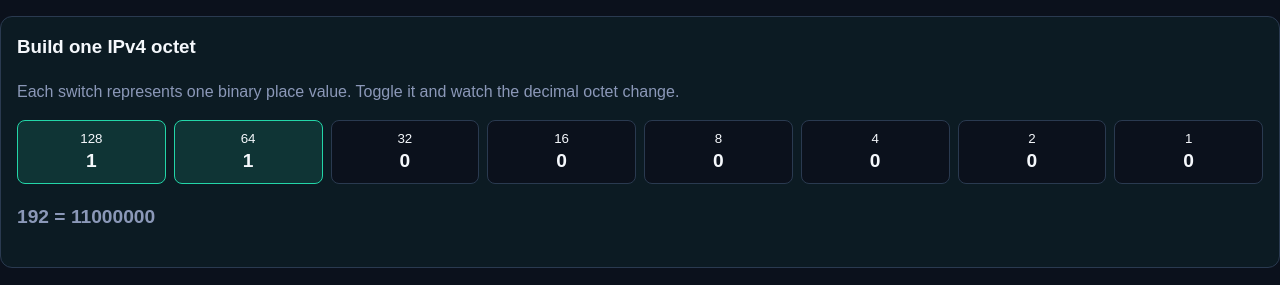
Test: IPv4 lesson interactives › lets a learner change an octet bit and see its decimal value
Expected: the text "192 = 11000000" is shown, [17,206,155,227]
Click the button named "Toggle 32 bit": (405, 152) [330,120,479,184]
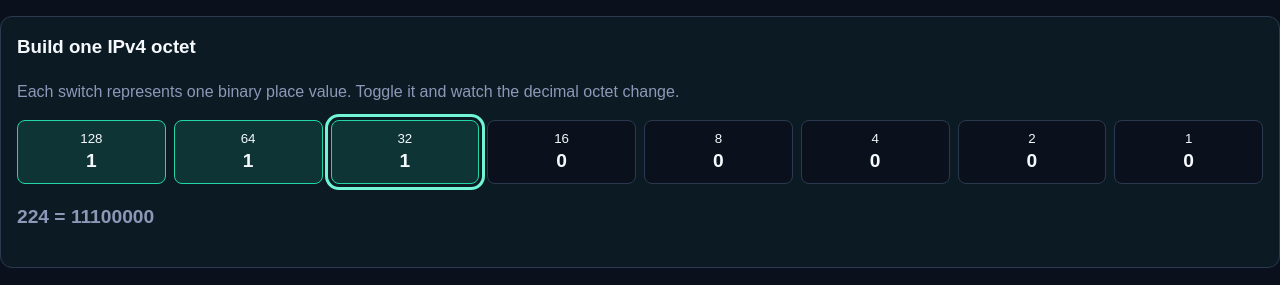
Now the text "224 = 11100000" is shown, box [17,206,154,227]
